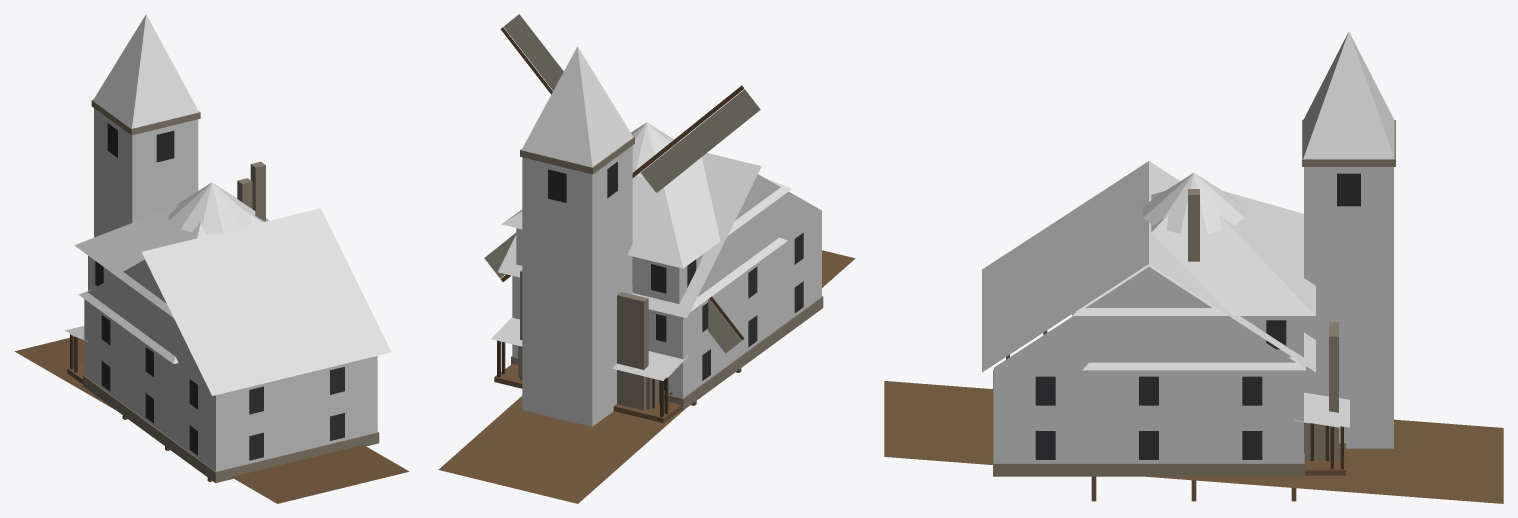
File: tropical.glb
3 views of the same model, side by side, from view 1: azimuth 30°, elevation 25°; view 2: azimuth 150°, elevation 25°; view 3: azimuth 270°, elevation 25° (orthographic). The views are drawn at different scales.
Parts seen in each view (by area): view 1: church, shipyard-slip, merchants-house, windmill, warehouse; view 2: church, merchants-house, shipyard-slip, windmill, chapel-ruin, warehouse; view 3: church, shipyard-slip, merchants-house, windmill, warehouse, chapel-ruin.
Part boxes in pixels (x1,y1,x2,y2): church: (83,14,391,482); shipyard-slip: (14,337,409,503); merchants-house: (64,161,269,383); windmill: (168,182,255,234); warehouse: (69,289,178,384); church: (498,46,823,426); merchants-house: (491,157,791,423); shipyard-slip: (438,250,855,503); windmill: (484,14,760,353); chapel-ruin: (518,270,659,410); warehouse: (501,237,787,419); church: (982,31,1395,476); shipyard-slip: (884,330,1503,503); merchants-house: (1072,189,1349,475); windmill: (1143,173,1244,233); warehouse: (1082,357,1339,475); chapel-ruin: (1304,322,1338,460).
Size of the model in its own units: 17.82 by 24.5 by 31.
